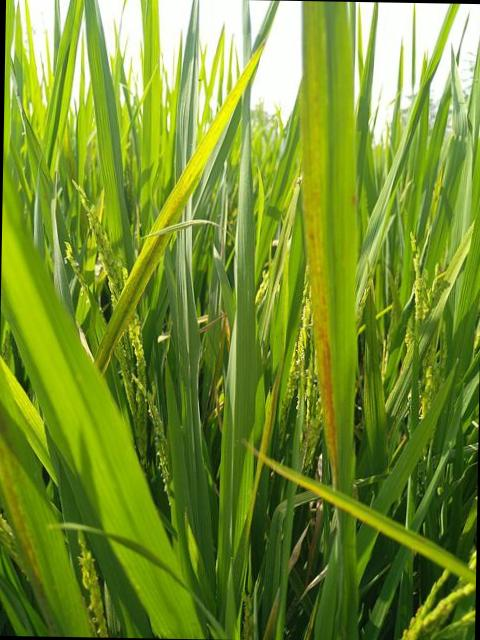Leaf Streak: (95, 1, 279, 376), (299, 1, 337, 490), (0, 437, 60, 636)
